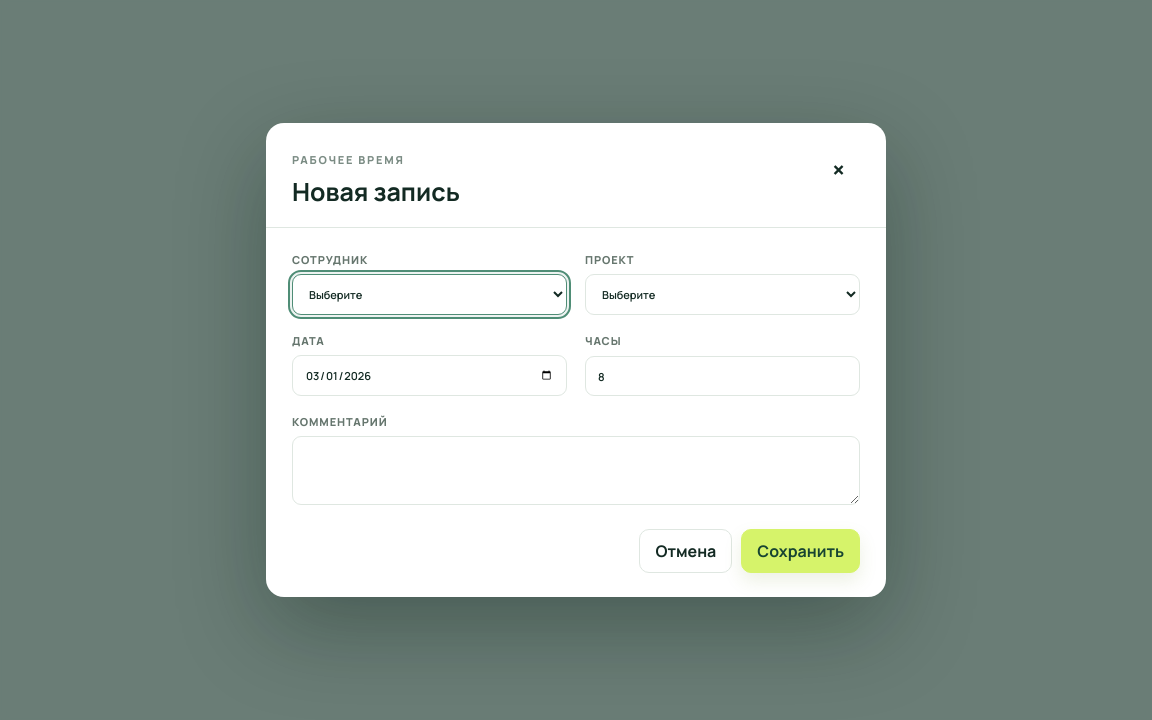
Test: EntryModal › refuses half-hour violations before sending anything
This screenshot has width=1152, height=720.
Select "Иванов И. И." in the dropdown labelled "Сотрудник" at (430, 294), box left=292, top=274, right=567, bottom=315
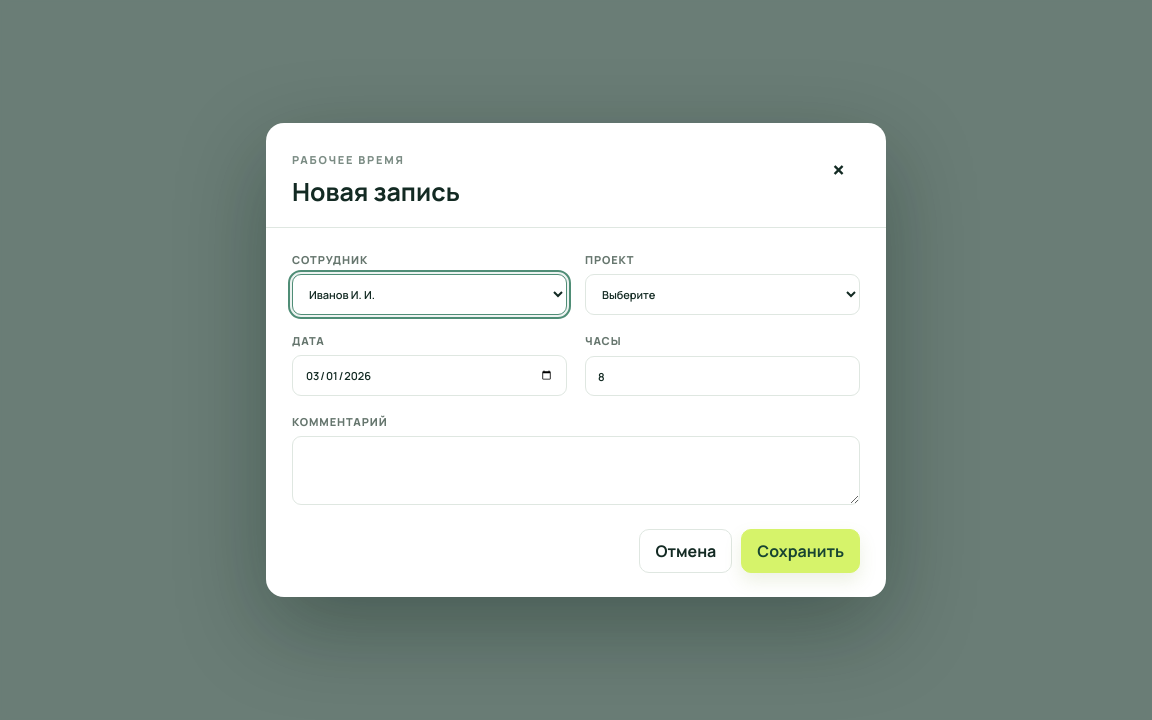
Select "П-001 · Реконструкция цеха" in the dropdown labelled "Проект" at (722, 294), box left=585, top=274, right=860, bottom=315
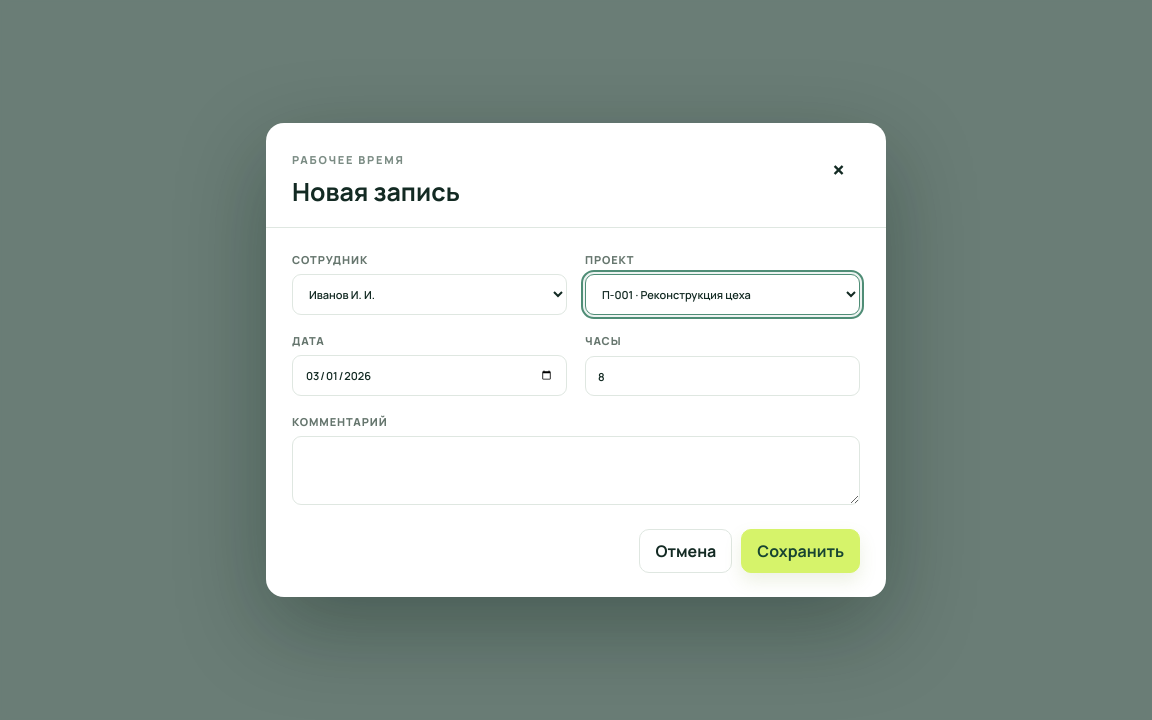
Replace the text in the number field labelled "Часы" with "3.7" at (722, 376), box left=585, top=356, right=860, bottom=396
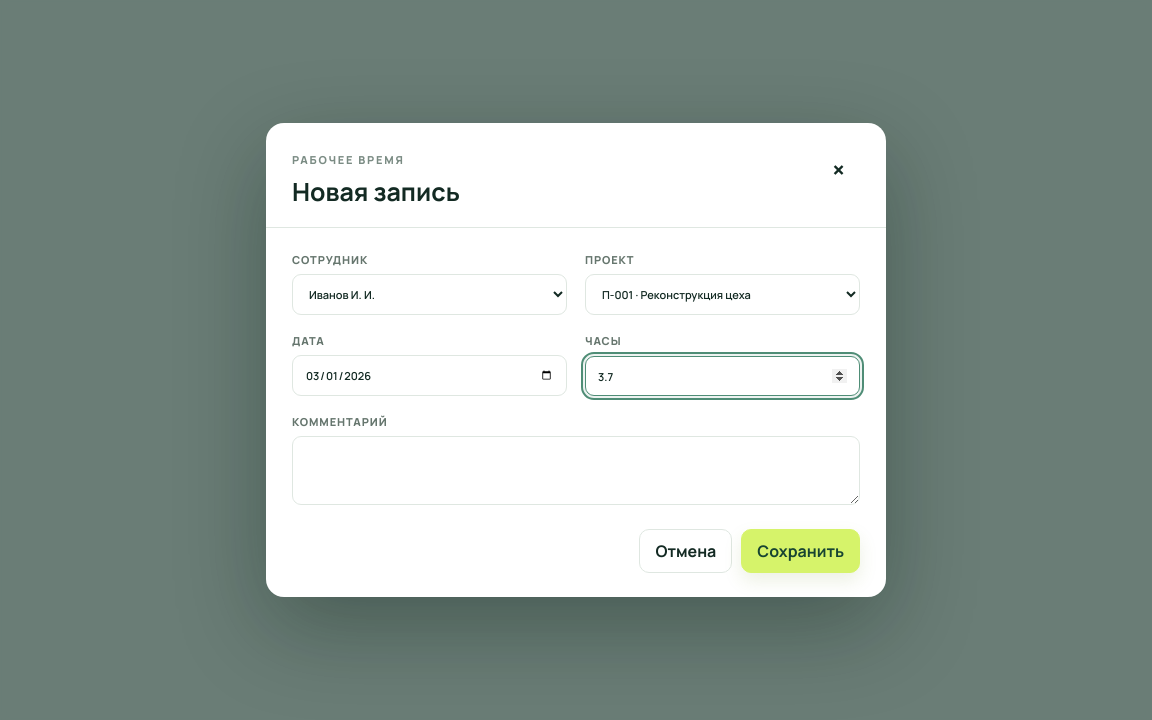
Click the button "Сохранить".
click(801, 551)  # box left=741, top=529, right=860, bottom=573
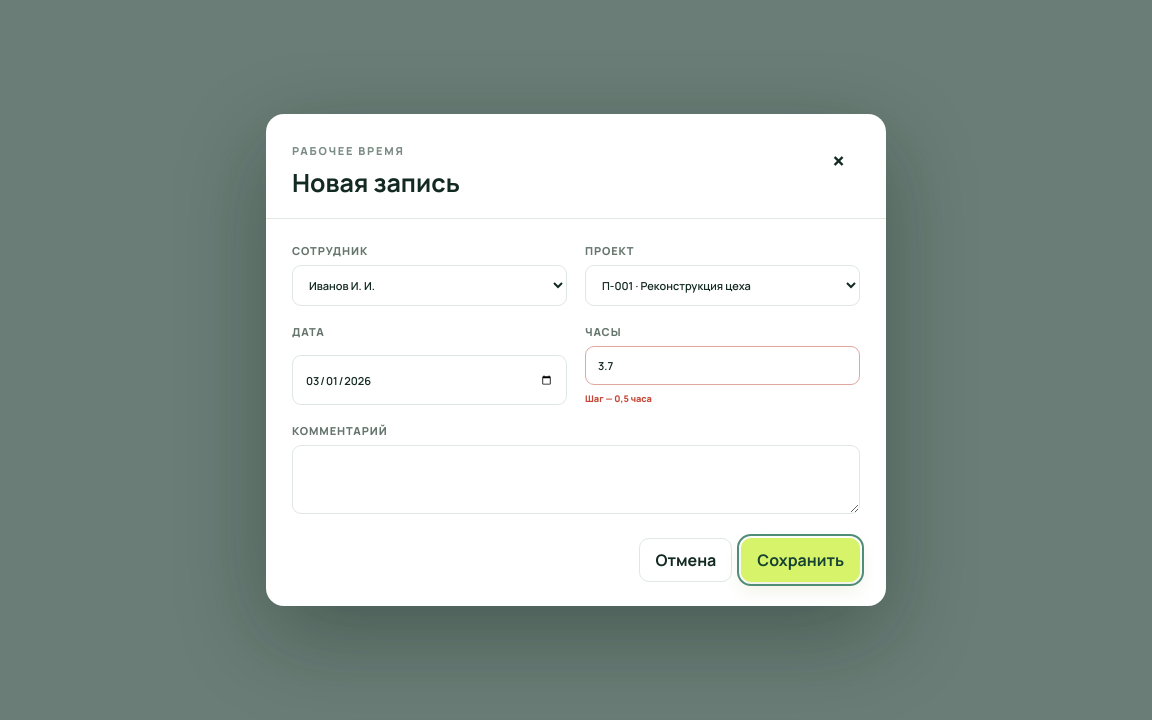
Now the text "Шаг — 0,5 часа" is shown, box left=585, top=392, right=652, bottom=405
